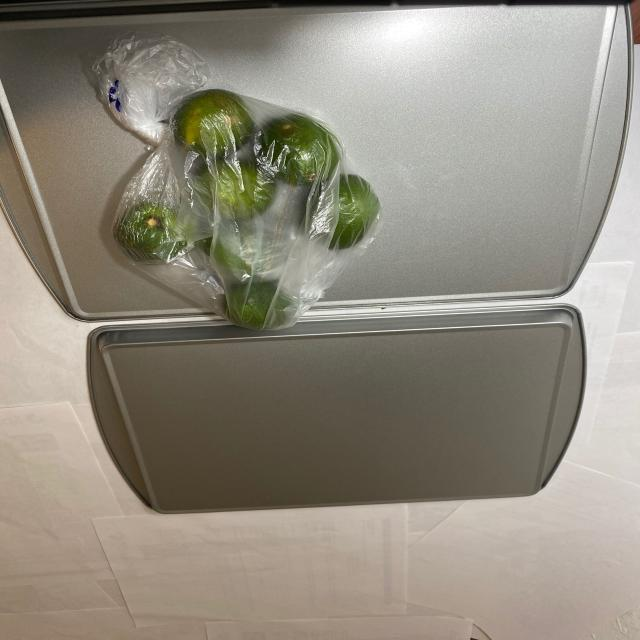lemon: (105, 65, 378, 332)
